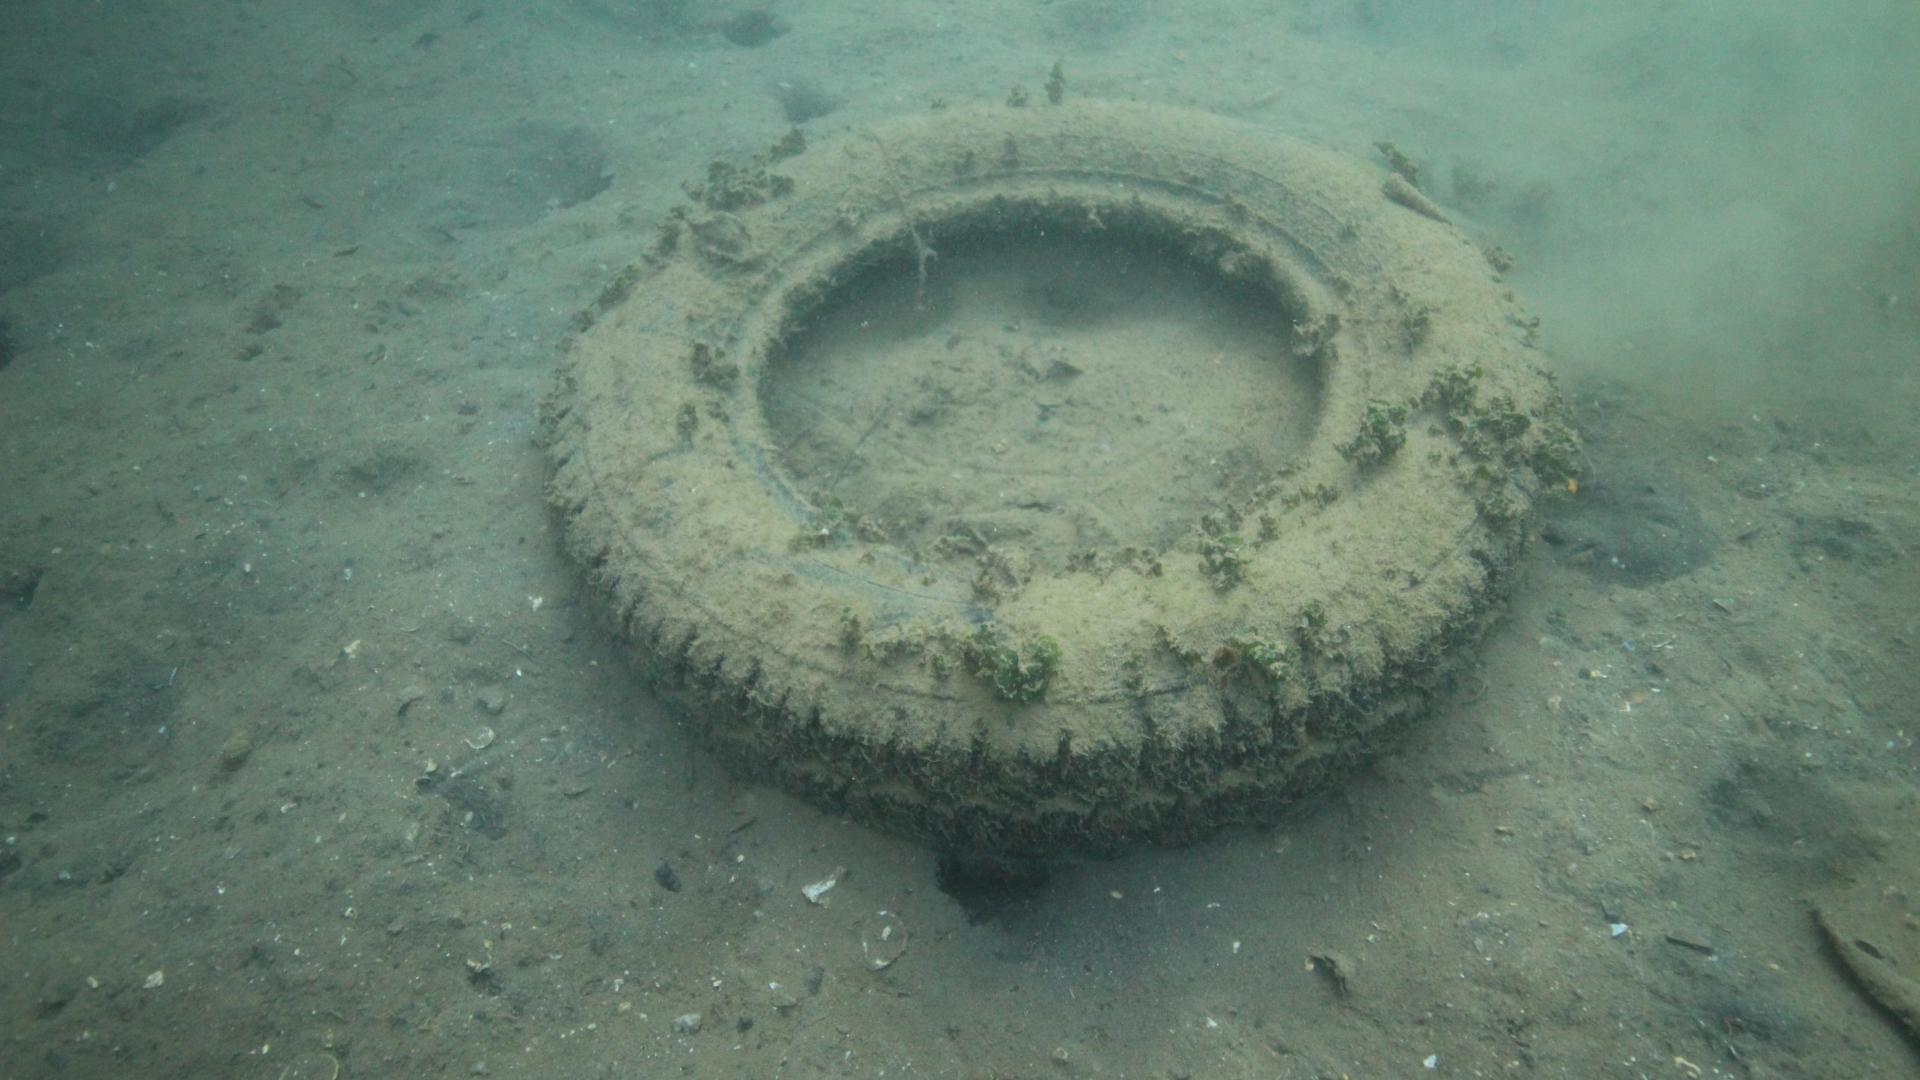tire: (542, 94, 1557, 860)
